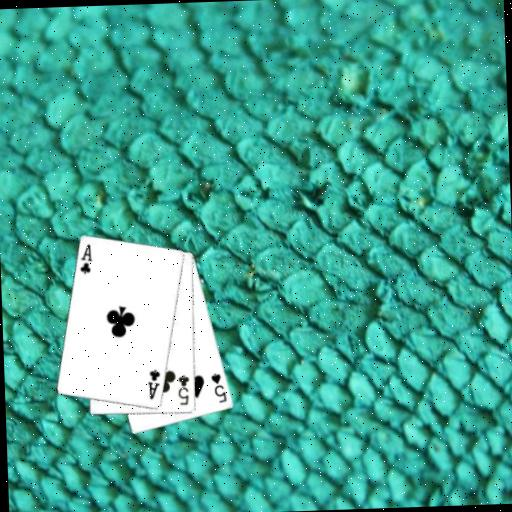5C: (175, 371, 191, 407)
5S: (208, 370, 229, 405)
AC: (144, 366, 162, 401), (76, 241, 94, 276)
